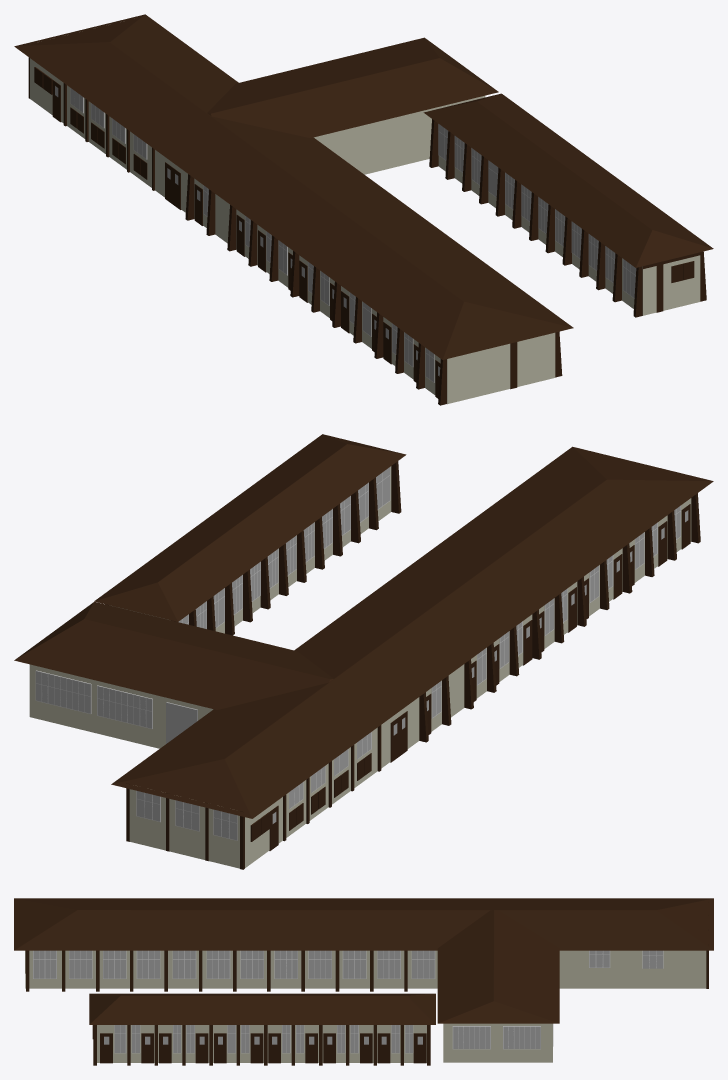
File: mth.fbx
The picture shows the model from 3 angles, top to bottom: view 1: azimuth 30°, elevation 25°; view 2: azimuth 150°, elevation 25°; view 3: azimuth 270°, elevation 25°; orthographic projection. The views are drawn at different scales.
Parts seen in each view (by area): view 1: Cube.165, Cube.163, Cube.166, Cube.001, Cube; view 2: Cube.165, Cube.163, Cube.166, Cube.001, Cube.156, Cube.157, Cube, Cube.158, Cube.127; view 3: Cube.165, Cube.001, Cube.166, Cube.163, Cube, Cube.159, Cube.164, Cube.099, Cube.093, Cube.094, Cube.095, Cube.101 (+23 smaller).
Part boxes in pixels (x1,y1,x2,y2): Cube.165: (14, 14, 573, 359); Cube.163: (423, 93, 713, 267); Cube.166: (207, 37, 498, 138); Cube.001: (30, 58, 555, 404); Cube: (438, 148, 700, 315); Cube.165: (111, 446, 713, 818); Cube.163: (94, 434, 406, 621); Cube.166: (14, 602, 333, 709); Cube.001: (29, 498, 691, 868); Cube.156: (35, 670, 91, 713); Cube.157: (97, 685, 152, 729); Cube: (111, 466, 391, 633); Cube.158: (166, 702, 197, 743); Cube.127: (390, 711, 407, 762); Cube.165: (14, 898, 713, 950); Cube.001: (25, 950, 706, 1062); Cube.166: (437, 910, 559, 1023); Cube.163: (89, 993, 435, 1024); Cube: (97, 1025, 426, 1062); Cube.159: (452, 1026, 490, 1049); Cube.164: (503, 1026, 540, 1049); Cube.099: (342, 950, 366, 978); Cube.093: (136, 950, 160, 978); Cube.094: (172, 950, 196, 978); Cube.095: (206, 950, 230, 978); Cube.101: (411, 950, 435, 978).
Size of the model in its own units: 4378 by 908 by 10237.
